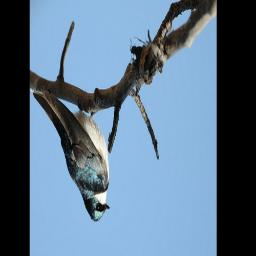Swallow: (32, 87, 111, 224)
